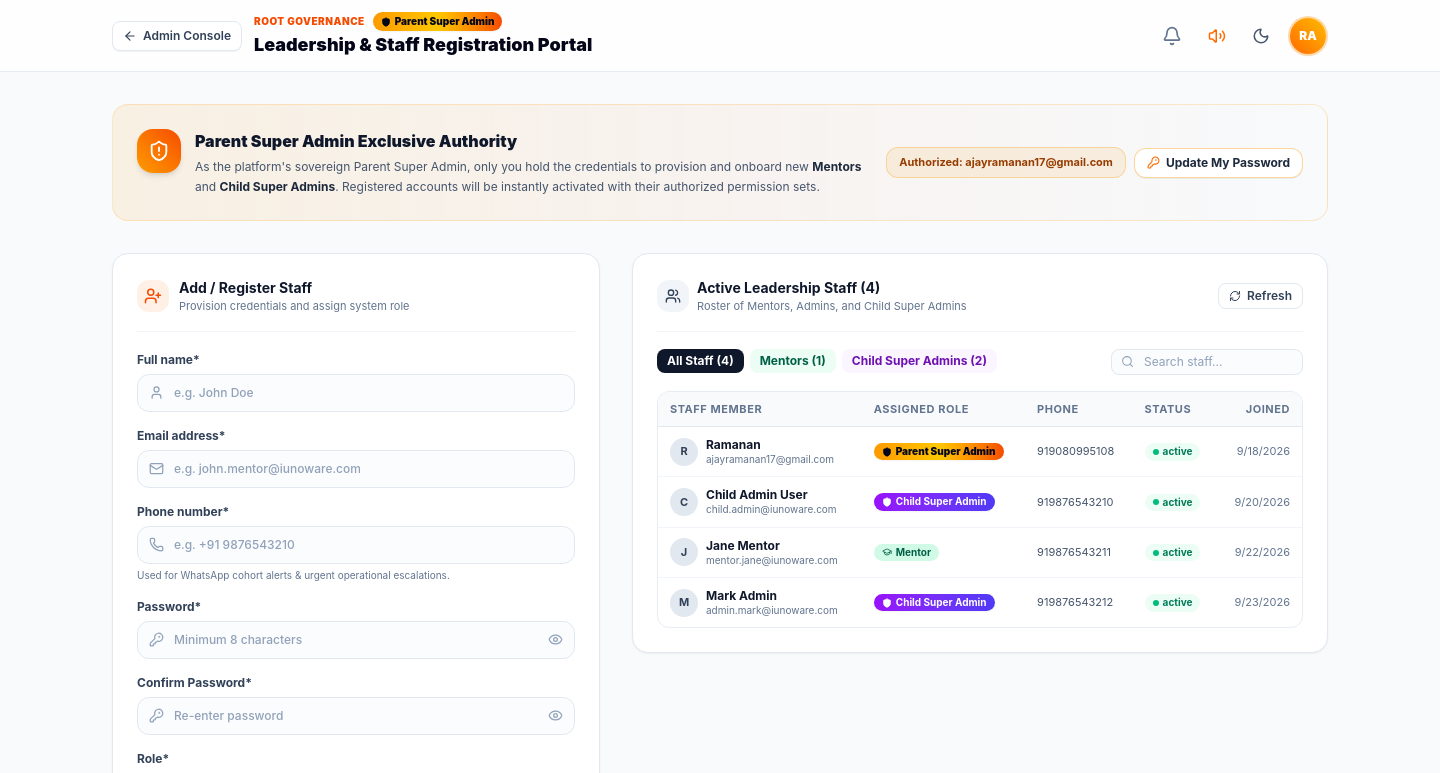
Parent Super Admin Registration Portal › allows filtering the staff roster by role tabs
Expected: the text "Jane Mentor" is shown, [706,538,780,553]
Expected: the text "Mark Admin" is shown, [706,588,777,603]
Note: Filter to Mentors only
Click the button "Mentors (1)".
click(793, 361)  # box [750,349,836,373]
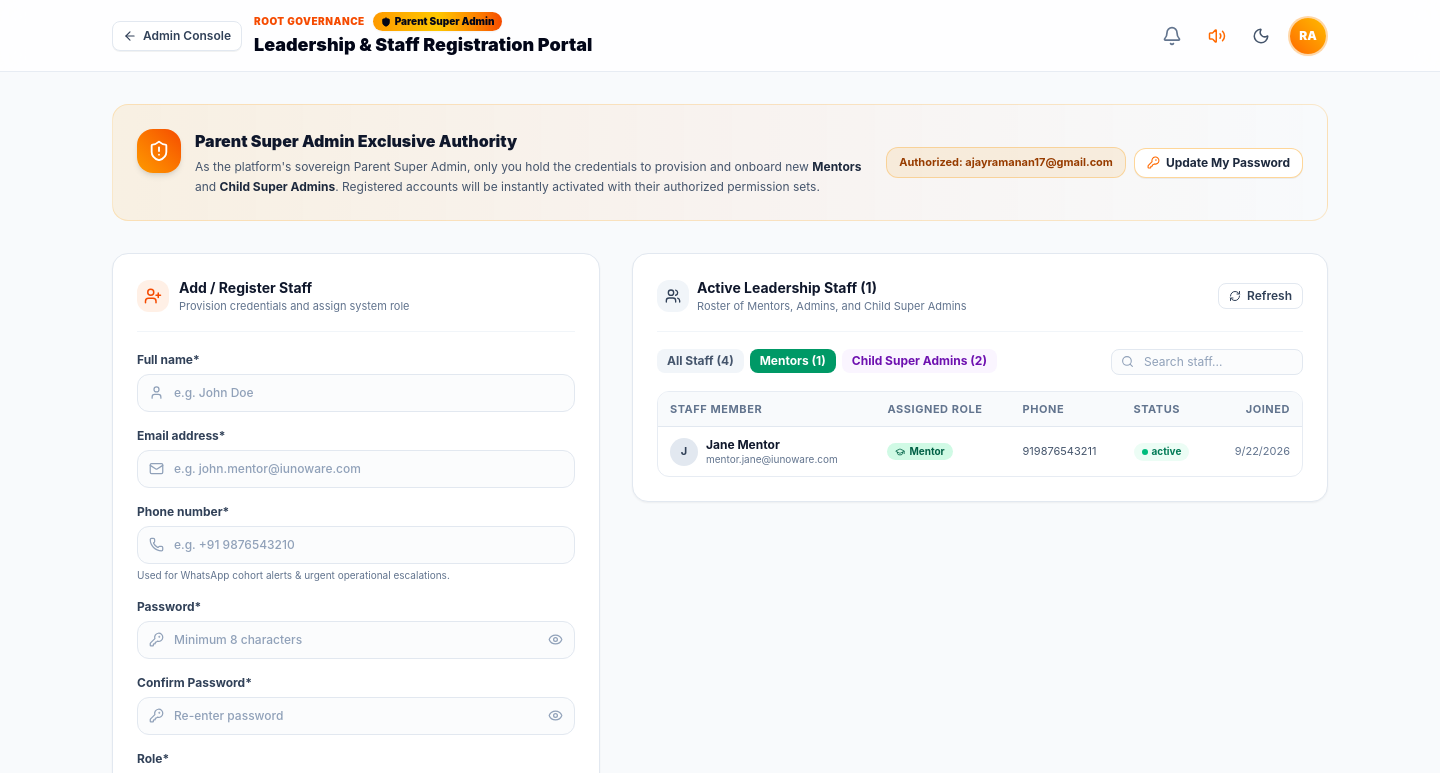
Expected: the text "Jane Mentor" is shown, [706,437,780,452]
Now the text "Mark Admin" is gone
Note: Filter to Child Super only
Click the button "Child Super Admins (2)".
click(919, 361)  # box [842,349,997,373]
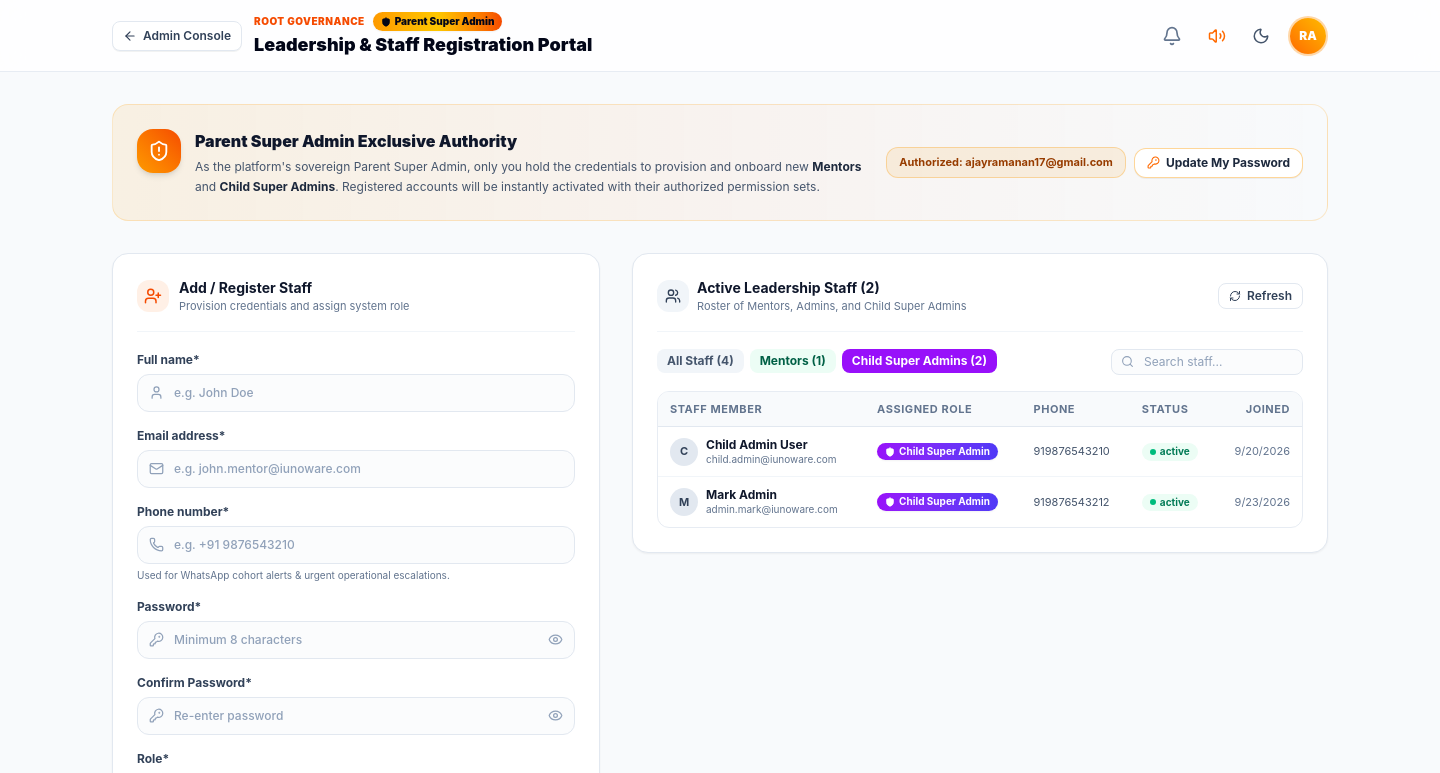
Now the text "Child Admin User" is shown, box [706,437,808,452]
Now the text "Mark Admin" is shown, box [706,488,777,502]
Now the text "Jane Mentor" is gone
